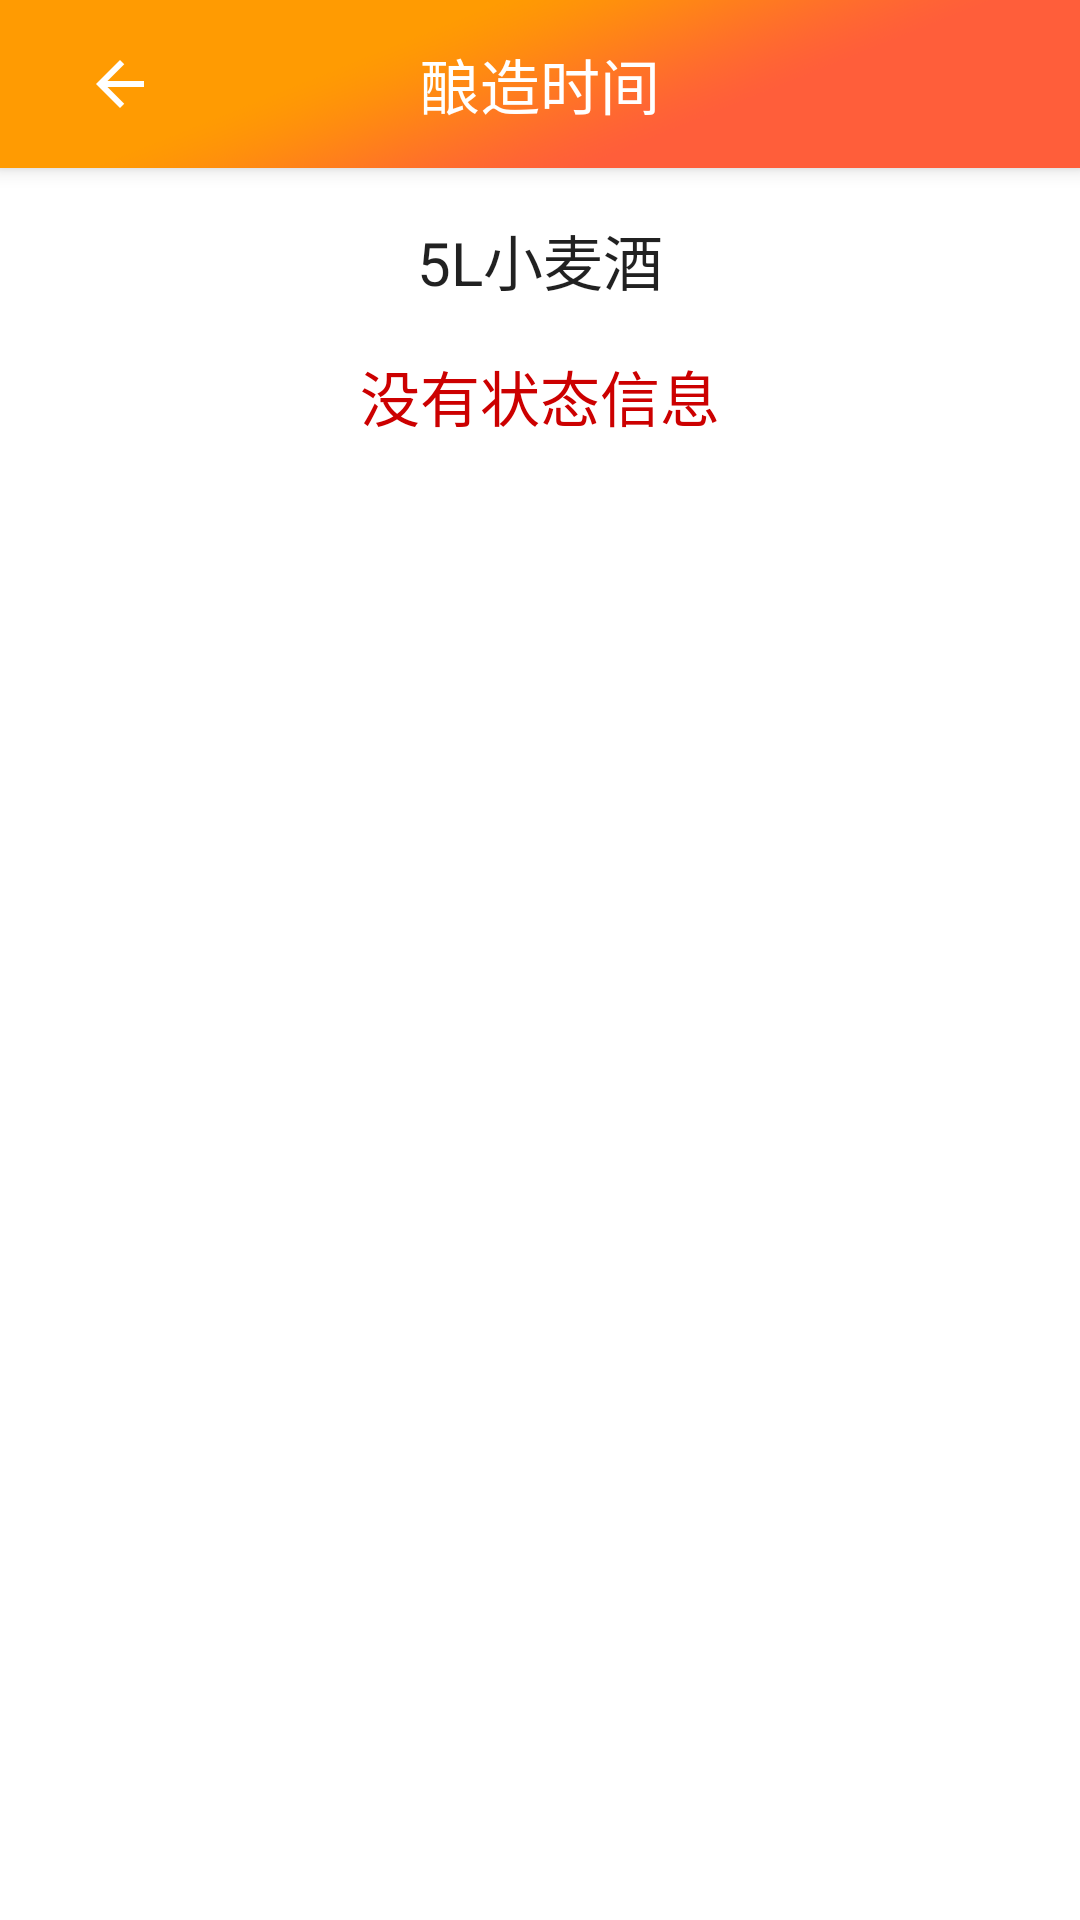

Named icons in this screenshot (1080 x 1920) and their bounding boxes, (x1, y1, x2, y2):
left arrow: (96, 60, 144, 108)
